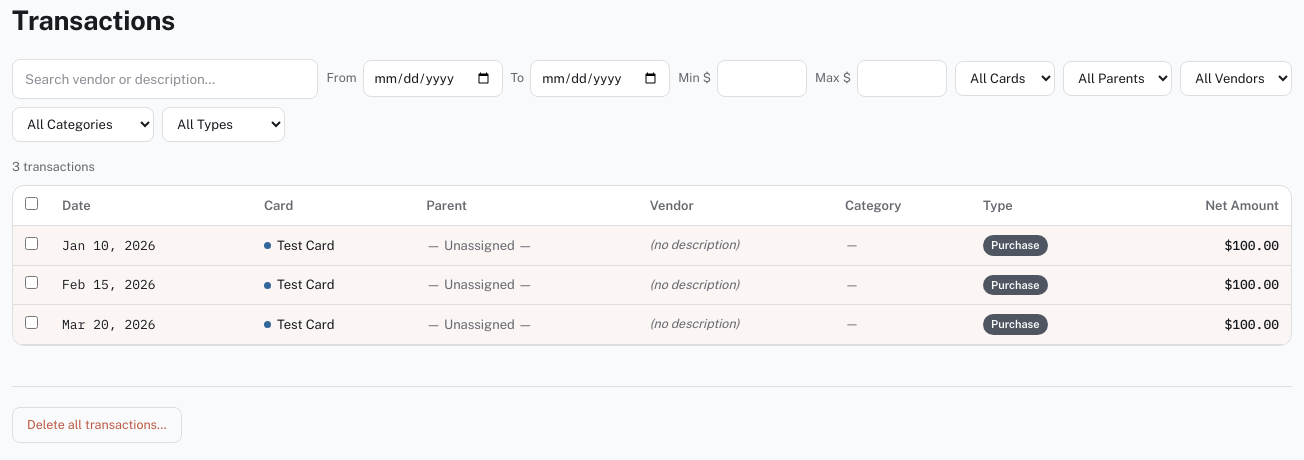
Transactions date filter › combines From and To into an inclusive range
Type "2026-02-15" into the date field labelled "From" at (432,79), box [362,60,502,97]
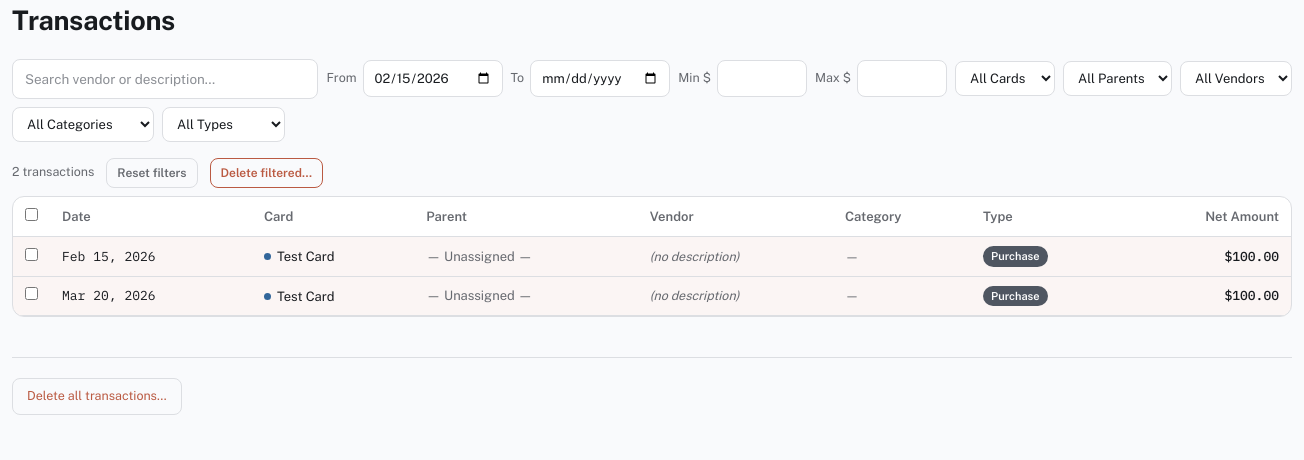
Type "2026-02-15" into the date field labelled "To" at (600,79), box [530,60,670,97]
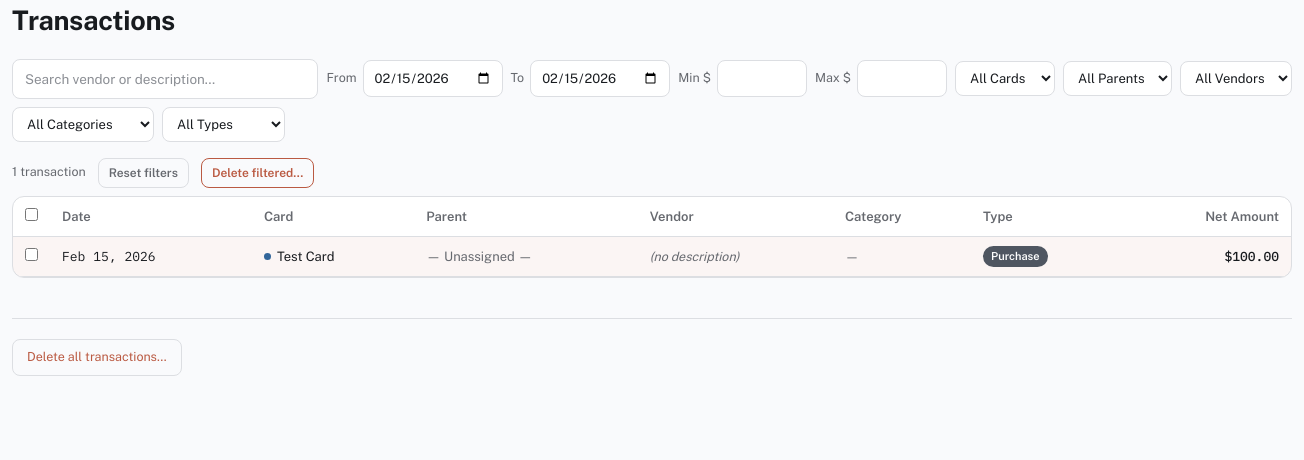
Expected: the text "Feb 15, 2026" is shown, [50,237,252,276]
Expected: the text "1 transaction" is shown, [12,163,86,182]
